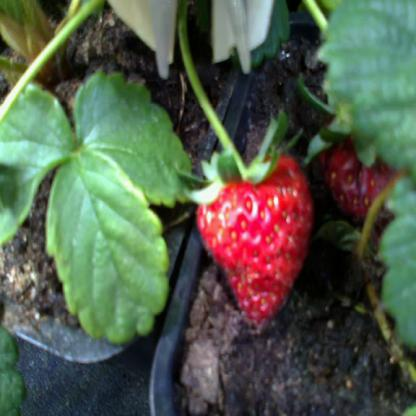ripe: (195, 155, 311, 329), (321, 117, 412, 218)
